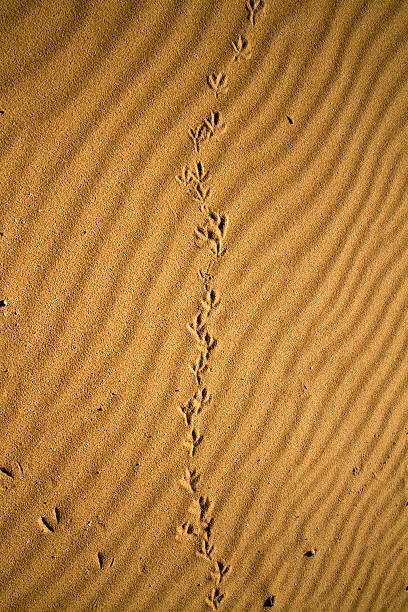animal_foot_print: (176, 110, 229, 609), (195, 495, 229, 609), (175, 161, 210, 213), (194, 210, 228, 257), (188, 111, 224, 153), (187, 309, 216, 361), (179, 387, 211, 426), (189, 495, 213, 541), (207, 560, 229, 608), (194, 224, 224, 257), (189, 495, 212, 533), (175, 161, 208, 187), (0, 461, 22, 489), (203, 111, 225, 139), (189, 352, 207, 385), (187, 312, 205, 343), (183, 427, 202, 456), (38, 507, 60, 532), (209, 210, 228, 238), (188, 123, 205, 153), (231, 35, 251, 60), (207, 72, 227, 97), (200, 289, 221, 312), (246, 0, 264, 26), (193, 387, 211, 413), (197, 260, 213, 289), (187, 310, 208, 332), (180, 468, 199, 492), (201, 331, 217, 359), (179, 400, 196, 426), (212, 560, 229, 585), (192, 182, 211, 204), (197, 537, 214, 561), (190, 161, 208, 183), (206, 587, 224, 609), (176, 521, 198, 538), (198, 496, 211, 523), (0, 466, 14, 489), (175, 166, 191, 186), (97, 551, 113, 569), (188, 497, 199, 522), (194, 226, 207, 247), (202, 517, 213, 541), (39, 516, 54, 532), (0, 466, 13, 479), (199, 203, 208, 213)
